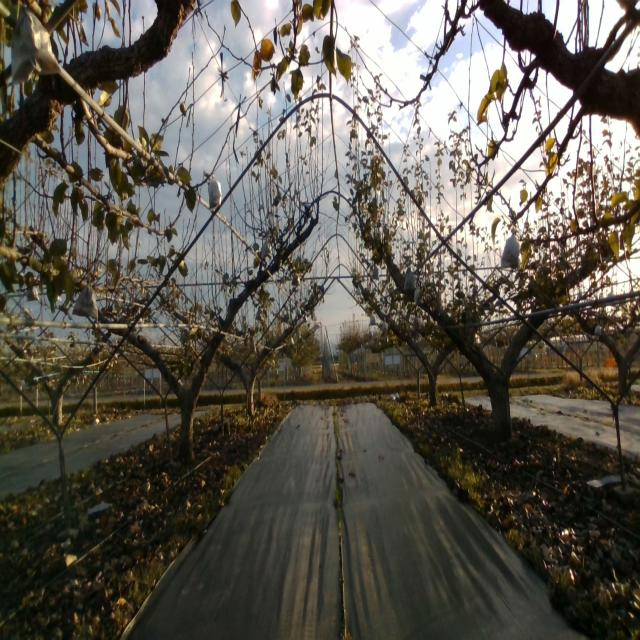pearbags: (10, 5, 61, 86), (501, 227, 522, 270), (207, 172, 222, 210), (261, 237, 274, 260), (404, 269, 415, 293)
